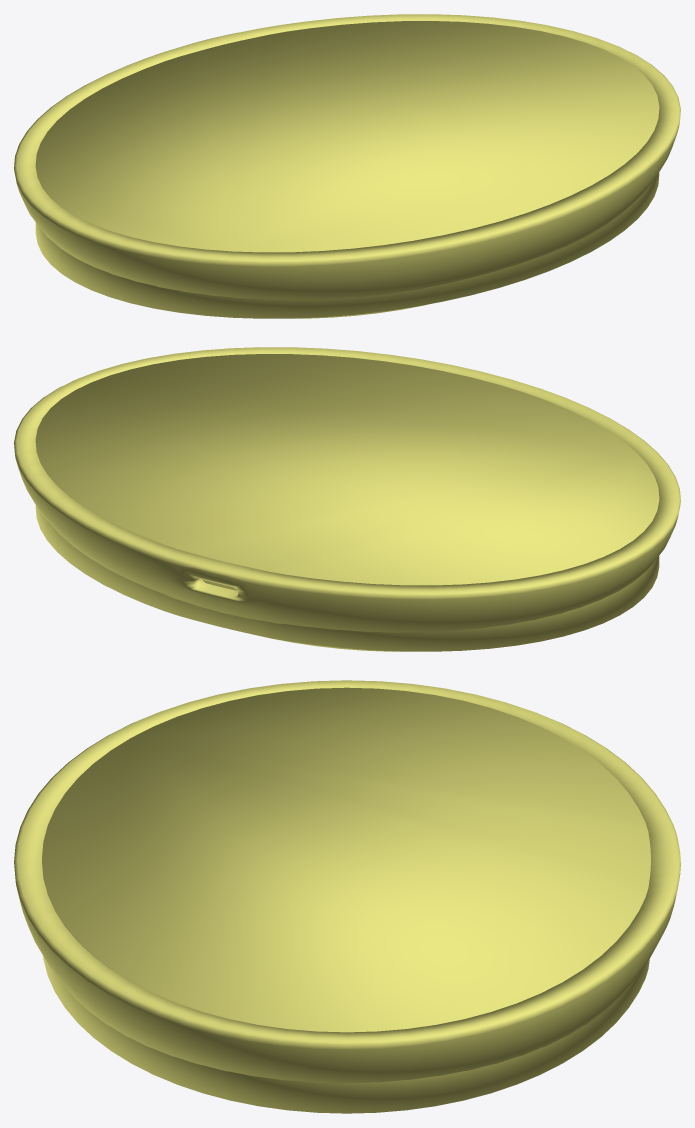
The picture shows the model from 3 angles, top to bottom: view 1: azimuth 30°, elevation 25°; view 2: azimuth 150°, elevation 25°; view 3: azimuth 270°, elevation 25°; orthographic projection. The views are drawn at different scales.
Parts seen in each view (by area): view 1: Mask, OV 52.001; view 2: Mask, OV 52.001; view 3: Mask, OV 52.001.
Boxes of the visible parts, x1,y1,x2,y2 form: Mask: (35, 21, 659, 318); OV 52.001: (14, 14, 680, 318); Mask: (35, 354, 659, 651); OV 52.001: (14, 347, 680, 651); Mask: (42, 687, 650, 1113); OV 52.001: (14, 680, 680, 1083).
Size of the model in its own units: 55.49 by 12.55 by 42.97.
